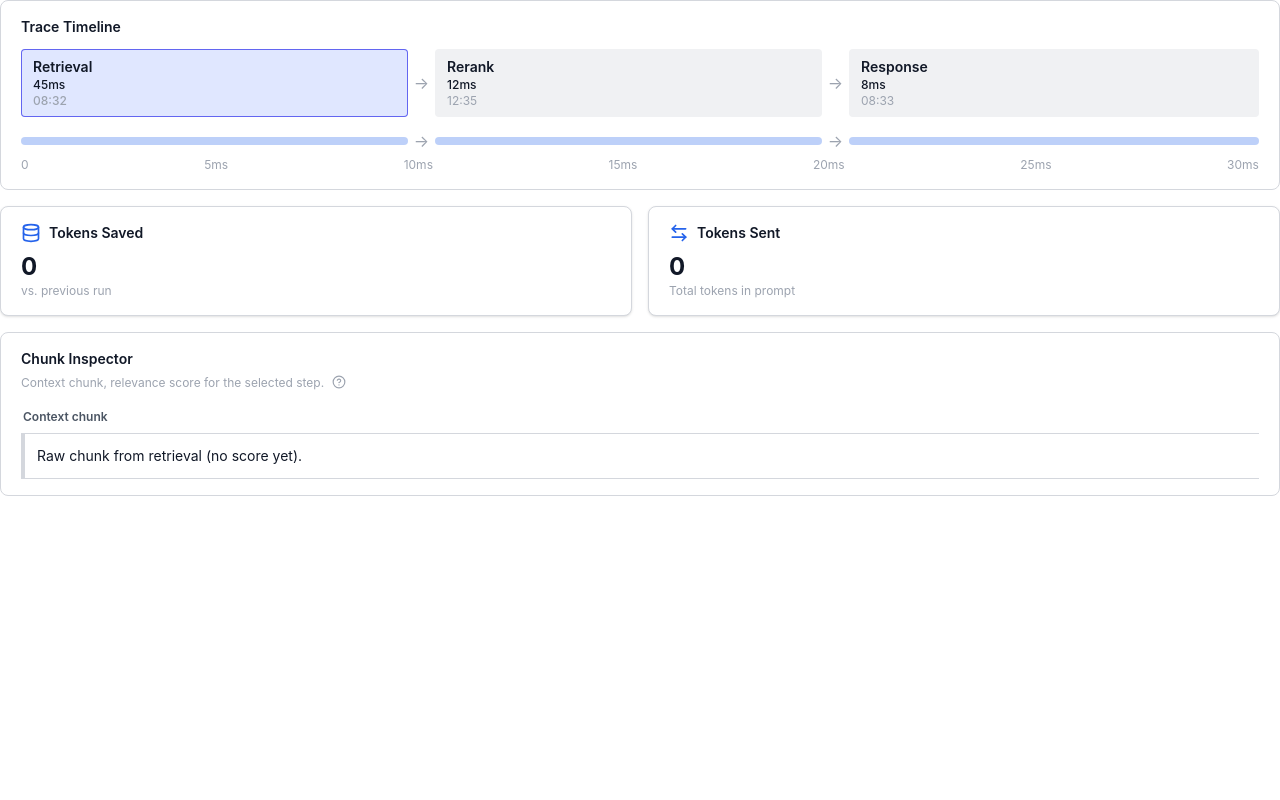
Test case: TraceView › shows Model routing card when trace has model and routingClass with confidence and reason
What coordinates should you click on to do the following:
click the button "Response 8ms 08:33"
I would click on:
 (894, 66)
Its box is [849,49,1259,117].
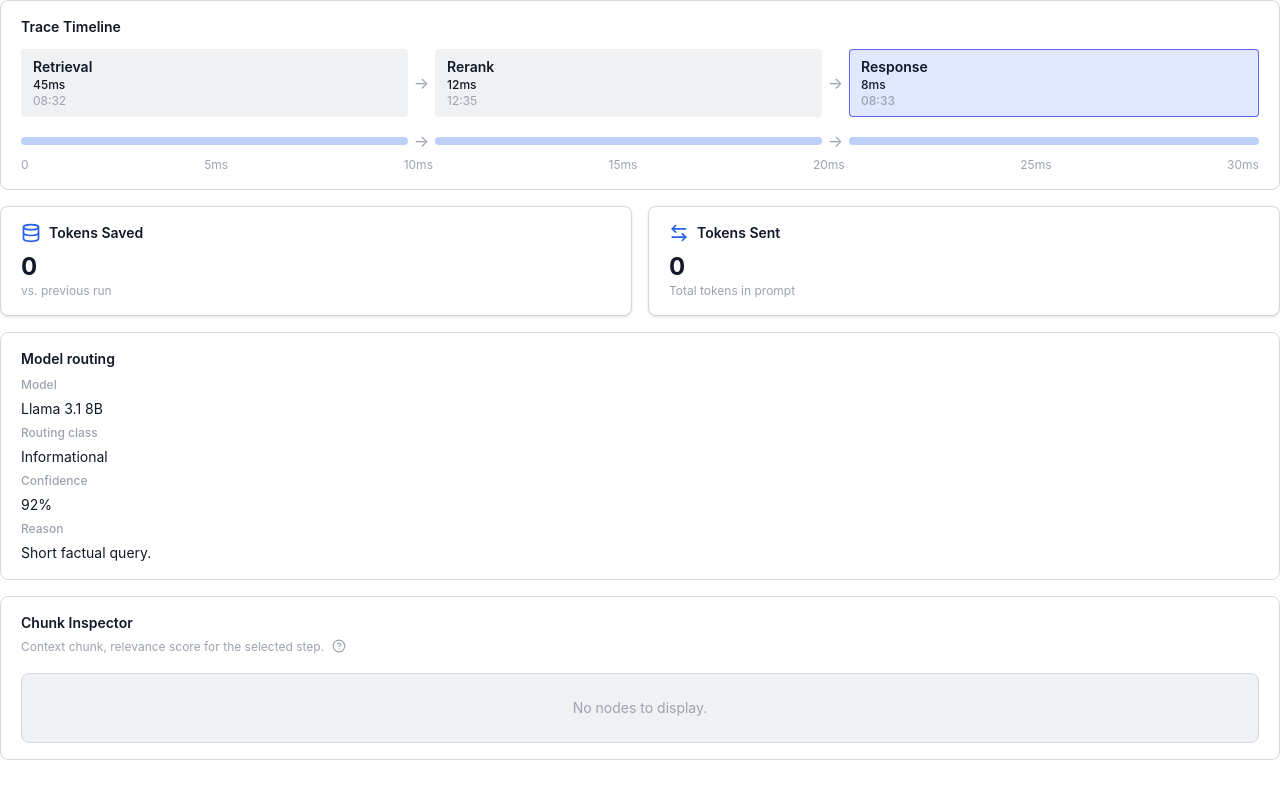
Now the heading "Model routing" is shown, box [21,350,115,367]
Now the text "Llama 3.1 8B" is shown, box [21,400,103,417]
Now the text "Informational" is shown, box [21,448,108,465]
